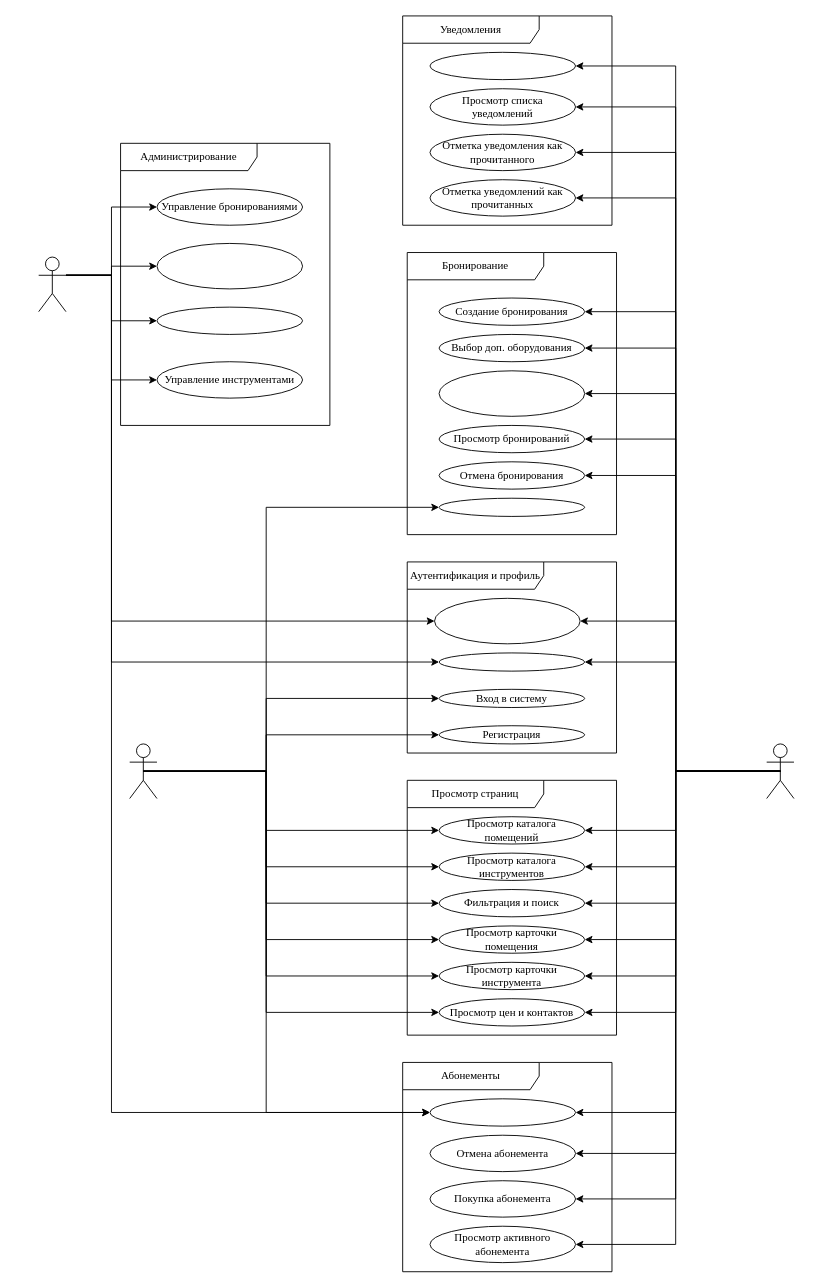
The diagram is 813 pixels wide and 1288 high, and some of its shapes have lost their labels. Each missing label, with the centre of its shape:
"Администратор" belongs at point 52,284.
"Выход из системы" belongs at point 511,661.
"Гость" belongs at point 143,771.
"Клиент" belongs at point 780,771.
"Оформление и подтверждение бронирования" belongs at point 511,393.
"Получение уведомлений" belongs at point 502,65.
"Проверка доступности" belongs at point 511,506.
"Просмотр и редактирование профиля" belongs at point 507,620.
"Просмотр списка абонементов" belongs at point 502,1112.
"Управление помещениями" belongs at point 229,320.
"Управление тарифами абонементов" belongs at point 229,266.
